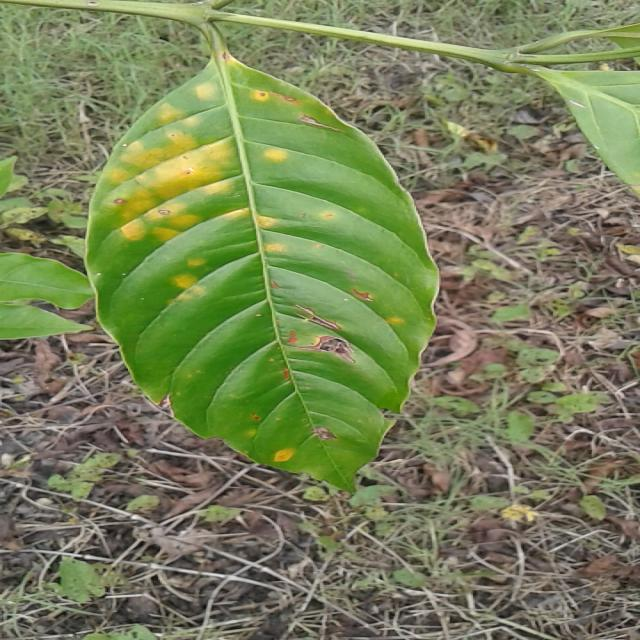Enfermedad-Roya: (83, 42, 438, 497)
